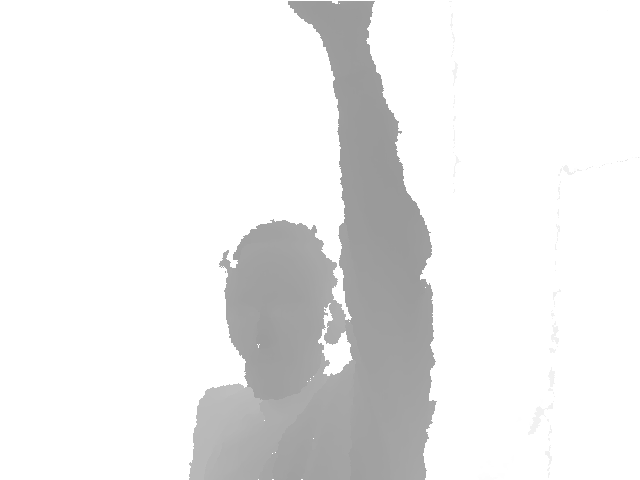head: (217, 218, 341, 385)
person: (185, 1, 438, 480)
